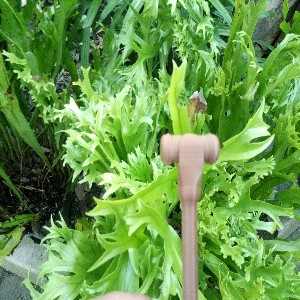palu: (159, 132, 220, 300)
